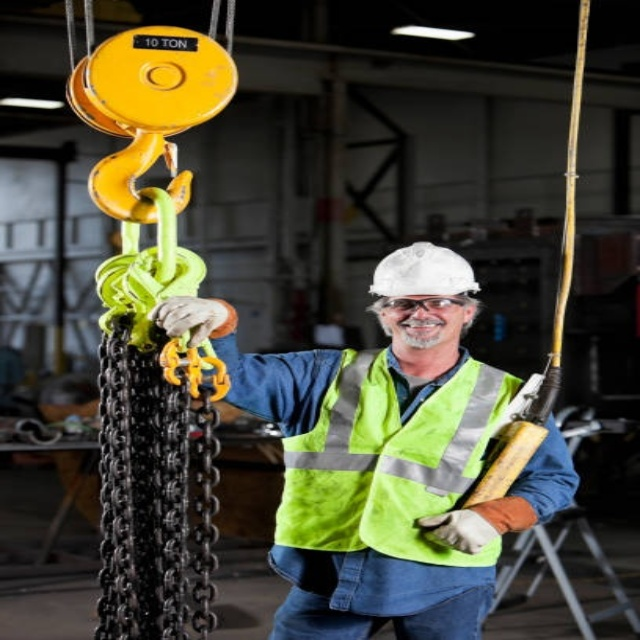Gafas: (378, 296, 469, 314)
Guantes: (146, 295, 232, 349), (415, 507, 503, 555)
Sin_mascara: (400, 319, 445, 348)
